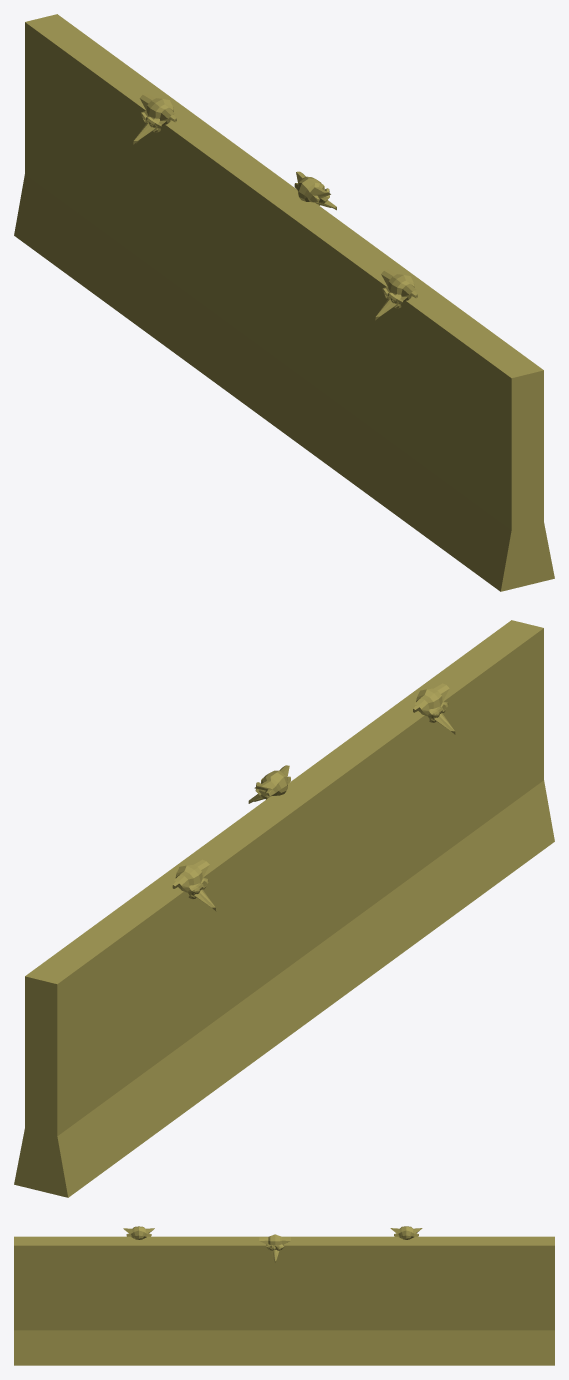
Rendered from bird_gaurd_wall.glb.
The picture shows the model from 3 angles, top to bottom: view 1: azimuth 30°, elevation 25°; view 2: azimuth 150°, elevation 25°; view 3: azimuth 270°, elevation 25°; orthographic projection. The views are drawn at different scales.
Parts seen in each view (by area): view 1: Wall; view 2: Wall; view 3: Wall.
Part boxes in pixels (x1=…): Wall: x1=14, y1=14, x2=554, y2=591; Wall: x1=14, y1=620, x2=554, y2=1197; Wall: x1=14, y1=1226, x2=554, y2=1365.
Size of the model in its own units: 3.05 by 7.84 by 29.99.
